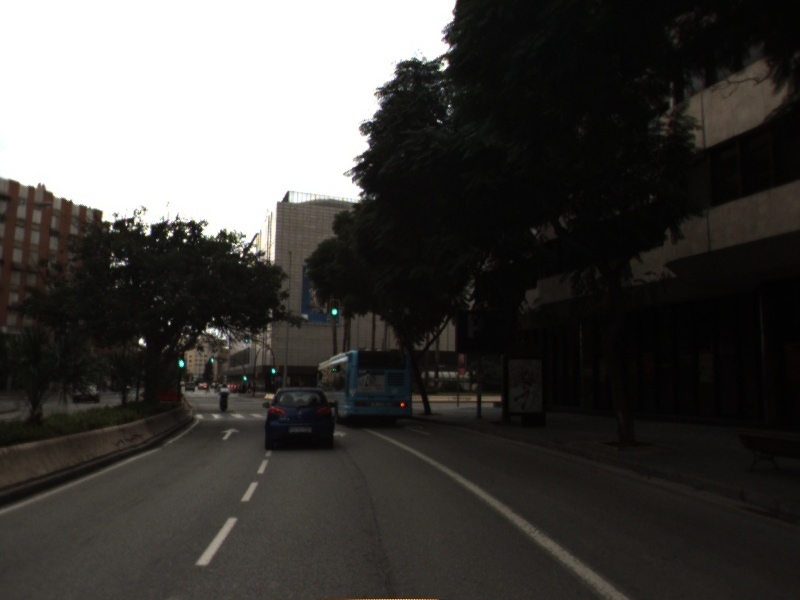RIGHT: (402, 423, 436, 438)
STRAIGHT: (219, 426, 243, 442)
